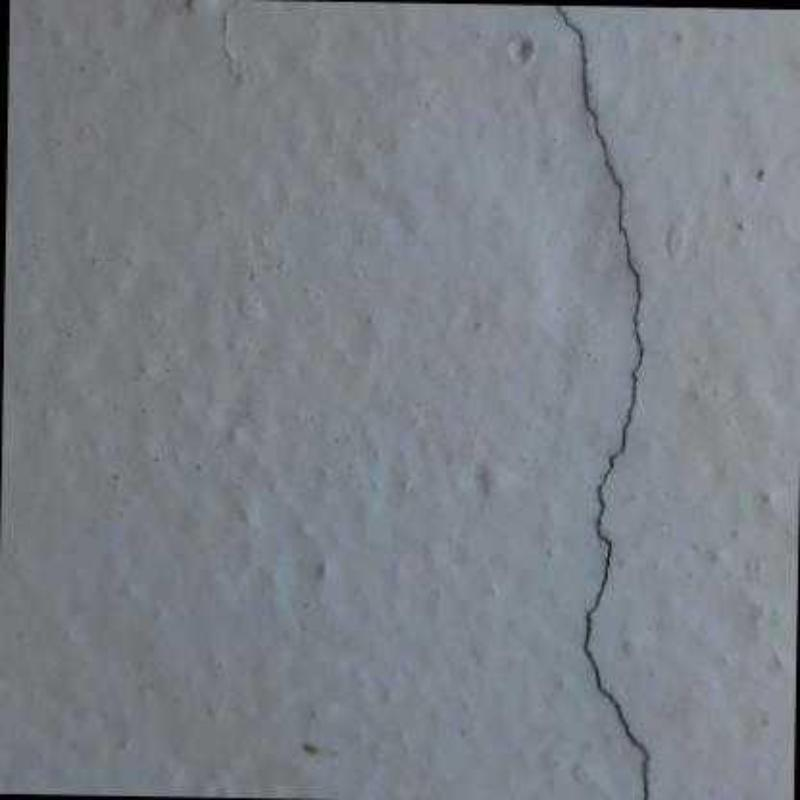pothole: (553, 7, 650, 798)
